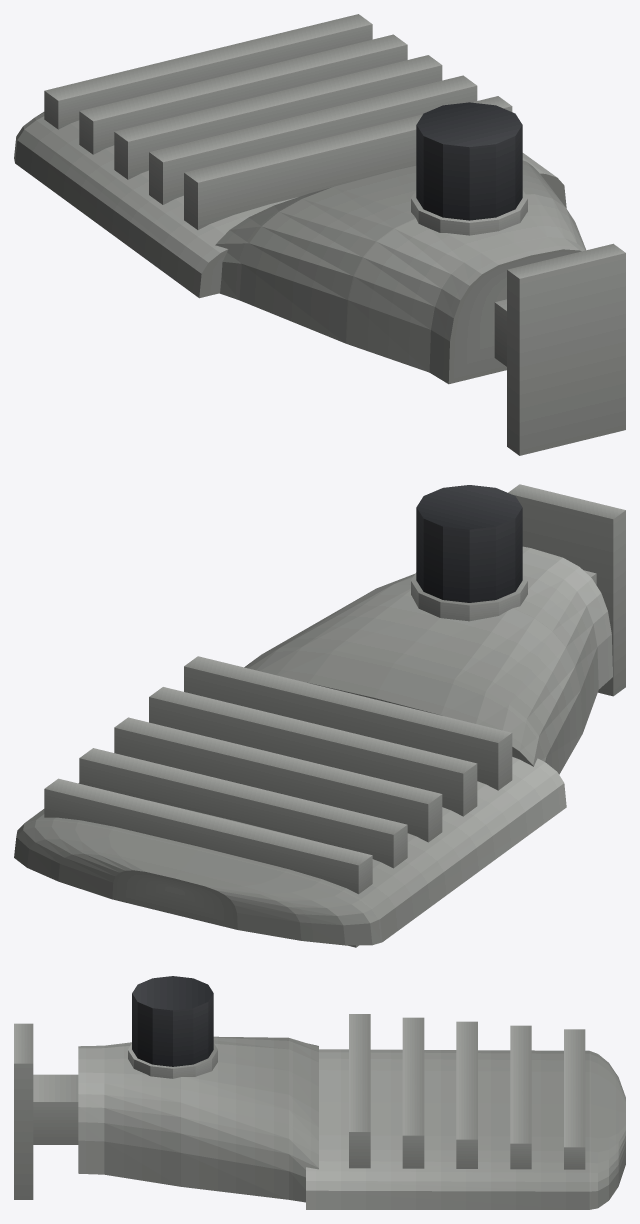
The model's file is streetlight_geealsarm.obj.
The picture shows the model from 3 angles, top to bottom: view 1: azimuth 30°, elevation 25°; view 2: azimuth 150°, elevation 25°; view 3: azimuth 270°, elevation 25°; orthographic projection. The views are drawn at different scales.
Visible parts, largest first — view 1: fixture; view 2: fixture; view 3: fixture.
Boxes of the visible parts, x1,y1,x2,y2 form: fixture: (14,14,625,455); fixture: (14,484,625,947); fixture: (14,976,625,1209).
Size of the model in its own units: 0.475 by 0.2997 by 0.8904.
